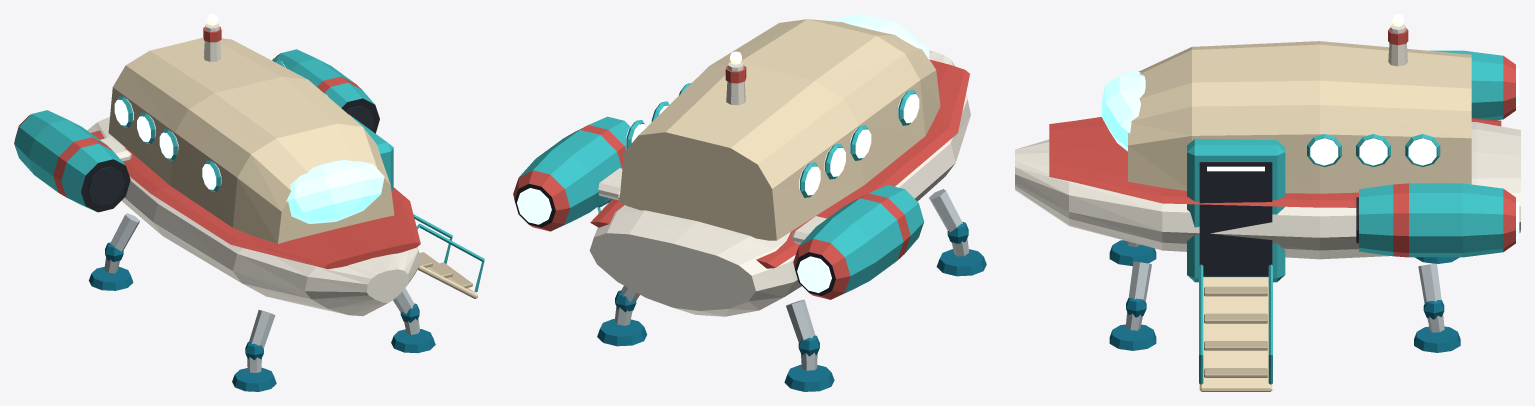
The model's file is pel-p_offen.glb.
3 views of the same model, side by side, from view 1: azimuth 30°, elevation 25°; view 2: azimuth 150°, elevation 25°; view 3: azimuth 270°, elevation 25° (orthographic). The views are drawn at different scales.
Visible parts, largest first — view 1: kabine, unterrumpf, zierstreifen, triebwerk_r, cockpit, triebwerk_l, fenster, landebein_2, landebein_4, treppe, landebein_1, mast (+1 smaller); view 2: kabine, unterrumpf, triebwerk_r, triebwerk_l, zierstreifen, fenster, landebein_4, landebein_2, landebein_3, cockpit, pylone, mast; view 3: kabine, unterrumpf, triebwerk_l, treppe, türöffnung, zierstreifen, türmodul, triebwerk_r, fenster, cockpit, landebein_1, landebein_3 (+2 smaller).
Part boxes in pixels (x1=…): kabine: x1=108, y1=37, x2=394, y2=243; unterrumpf: x1=87, y1=117, x2=421, y2=316; zierstreifen: x1=91, y1=130, x2=420, y2=269; triebwerk_r: x1=14, y1=110, x2=130, y2=212; cockpit: x1=286, y1=160, x2=384, y2=223; triebwerk_l: x1=274, y1=49, x2=379, y2=133; fenster: x1=114, y1=58, x2=327, y2=192; landebein_2: x1=232, y1=310, x2=276, y2=391; landebein_4: x1=89, y1=213, x2=139, y2=290; treppe: x1=413, y1=214, x2=484, y2=298; landebein_1: x1=391, y1=288, x2=435, y2=353; mast: x1=203, y1=23, x2=221, y2=61; kabine: x1=619, y1=19, x2=940, y2=240; unterrumpf: x1=589, y1=50, x2=970, y2=316; triebwerk_r: x1=793, y1=185, x2=924, y2=299; triebwerk_l: x1=513, y1=116, x2=630, y2=231; zierstreifen: x1=590, y1=59, x2=969, y2=268; fenster: x1=626, y1=83, x2=919, y2=197; landebein_4: x1=784, y1=299, x2=834, y2=391; landebein_2: x1=929, y1=189, x2=986, y2=276; landebein_3: x1=597, y1=286, x2=647, y2=346; cockpit: x1=828, y1=14, x2=929, y2=59; pylone: x1=598, y1=168, x2=826, y2=244; mast: x1=725, y1=62, x2=746, y2=105; kabine: x1=1128, y1=41, x2=1471, y2=193; unterrumpf: x1=1015, y1=122, x2=1520, y2=259; triebwerk_l: x1=1356, y1=183, x2=1519, y2=257; treppe: x1=1199, y1=264, x2=1272, y2=391; türöffnung: x1=1199, y1=162, x2=1272, y2=276; zierstreifen: x1=1049, y1=117, x2=1501, y2=207; türmodul: x1=1187, y1=138, x2=1285, y2=282; triebwerk_r: x1=1429, y1=50, x2=1519, y2=120; fenster: x1=1307, y1=134, x2=1440, y2=167; cockpit: x1=1101, y1=70, x2=1145, y2=151; landebein_1: x1=1109, y1=261, x2=1156, y2=350; landebein_3: x1=1414, y1=263, x2=1460, y2=352.
Size of the model in its own units: 0.1079 by 0.0801 by 0.1288.
